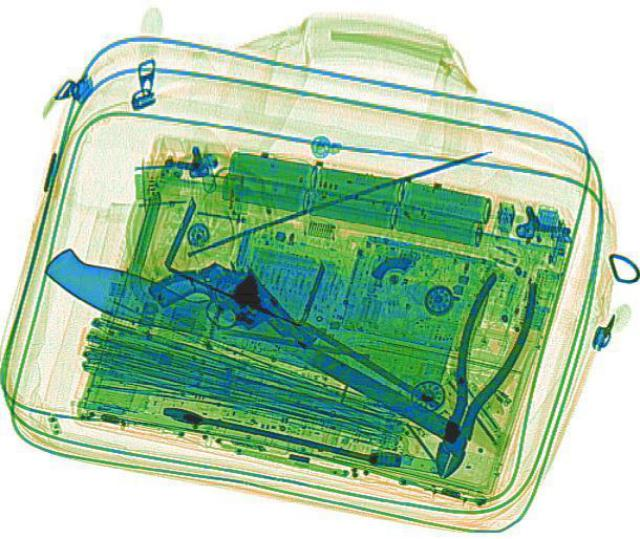Gun: (139, 241, 325, 390)
Knife: (34, 242, 336, 385)
Pliers: (412, 269, 546, 482)
